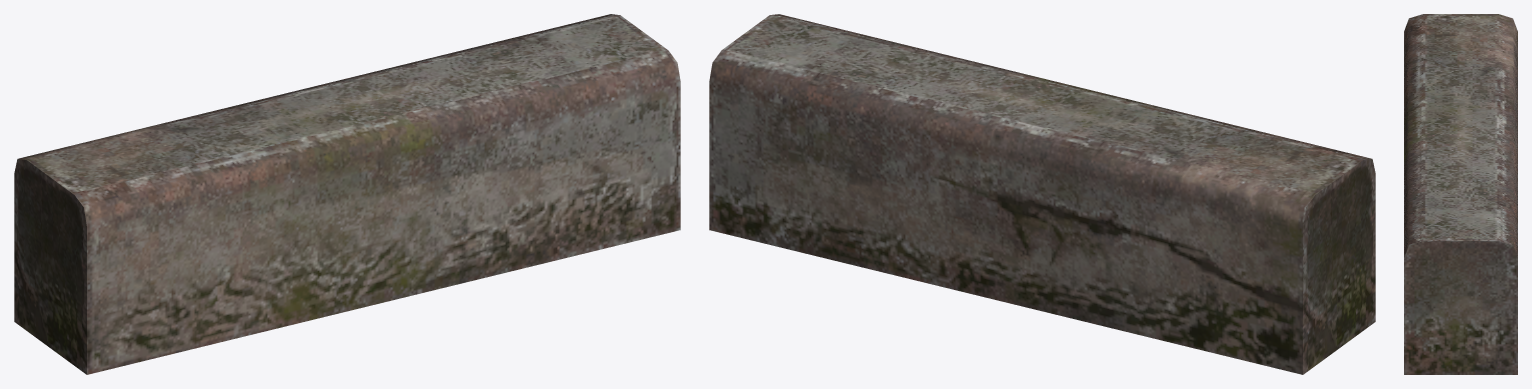
File: SM_Curb_02.fbx
The picture shows the model from 3 angles, left to right: view 1: azimuth 30°, elevation 25°; view 2: azimuth 150°, elevation 25°; view 3: azimuth 270°, elevation 25°; orthographic projection. The views are drawn at different scales.
Visible parts, largest first — view 1: SM_curb_02; view 2: SM_curb_02; view 3: SM_curb_02.
Part boxes in pixels (x1,y1,x2,y2): SM_curb_02: (14,14,680,374); SM_curb_02: (709,14,1375,374); SM_curb_02: (1404,14,1517,374).
Bounding box in the file's own units: 60.24 × 16.56 × 12.76.
